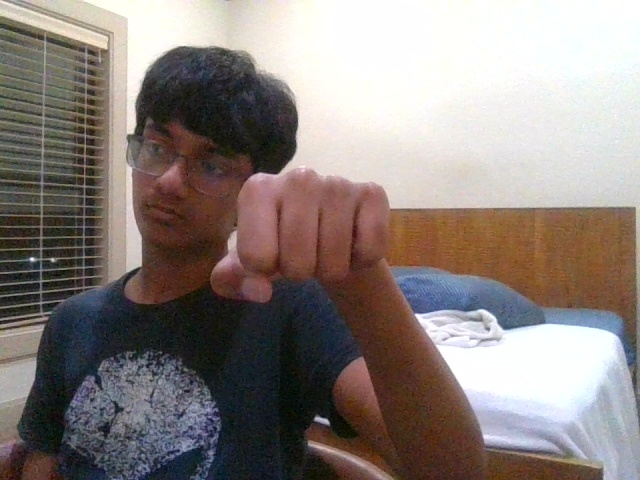yes: (211, 166, 390, 302)
